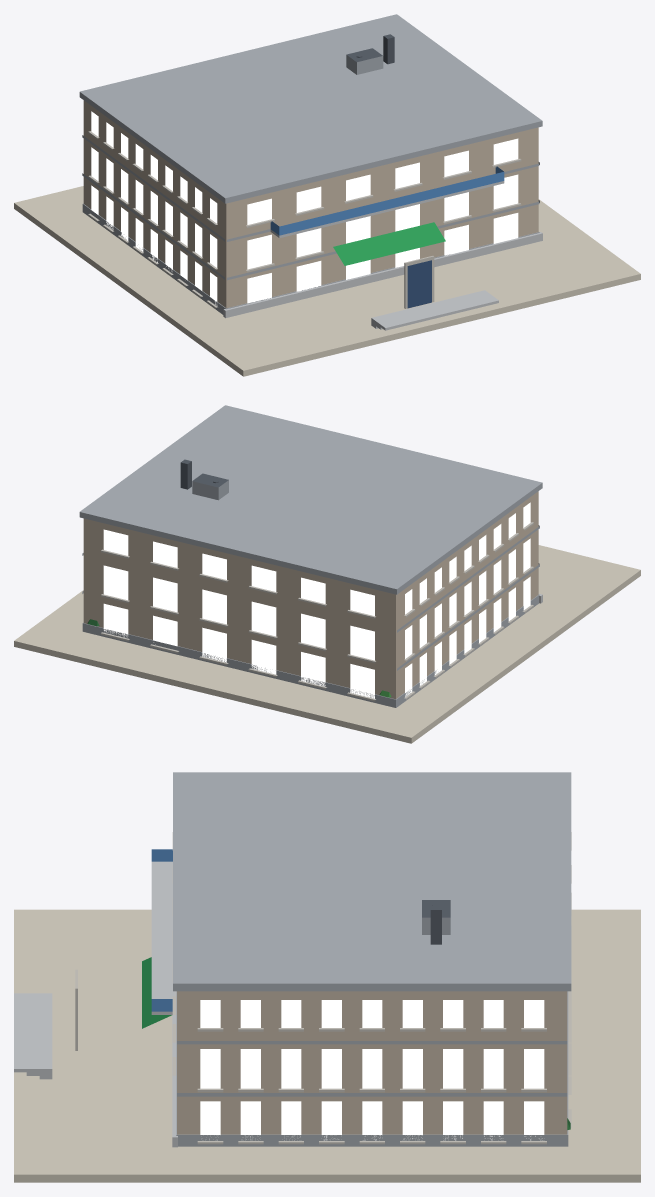
3 views of the same model, one above another, from view 1: azimuth 30°, elevation 25°; view 2: azimuth 150°, elevation 25°; view 3: azimuth 270°, elevation 25° (orthographic). The views are drawn at different scales.
Parts seen in each view (by area): view 1: b01_x2; view 2: b01_x2; view 3: b01_x2.
Boxes of the visible parts, x1=… form: b01_x2: x1=14, y1=14, x2=640, y2=376; b01_x2: x1=14, y1=405, x2=640, y2=743; b01_x2: x1=14, y1=772, x2=640, y2=1182.
Size of the model in its own units: 1.96 by 0.725 by 1.96.
